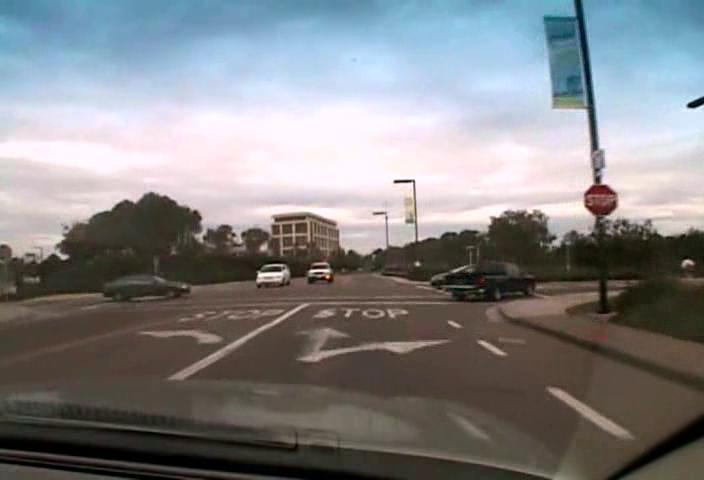stop: (583, 184, 618, 217)
